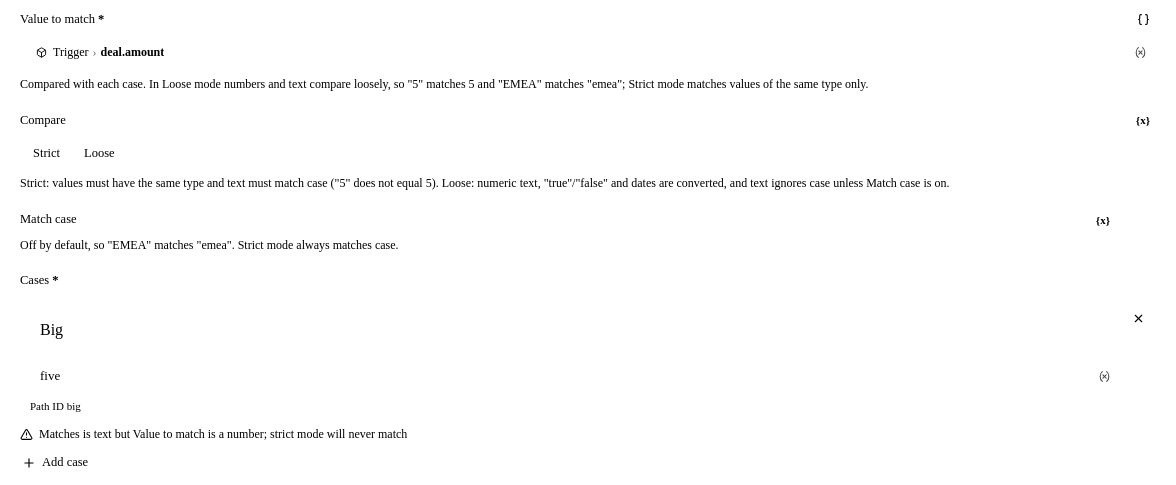
it: cases widget › case values are typed like the switch value, with a Compare choice
Expected: the text "Matches is text but Value to match is a number; strict mode will never match" is shown, [39,426,407,443]
Click the radio button labelled "Loose": (99, 153) [73,139,126,167]
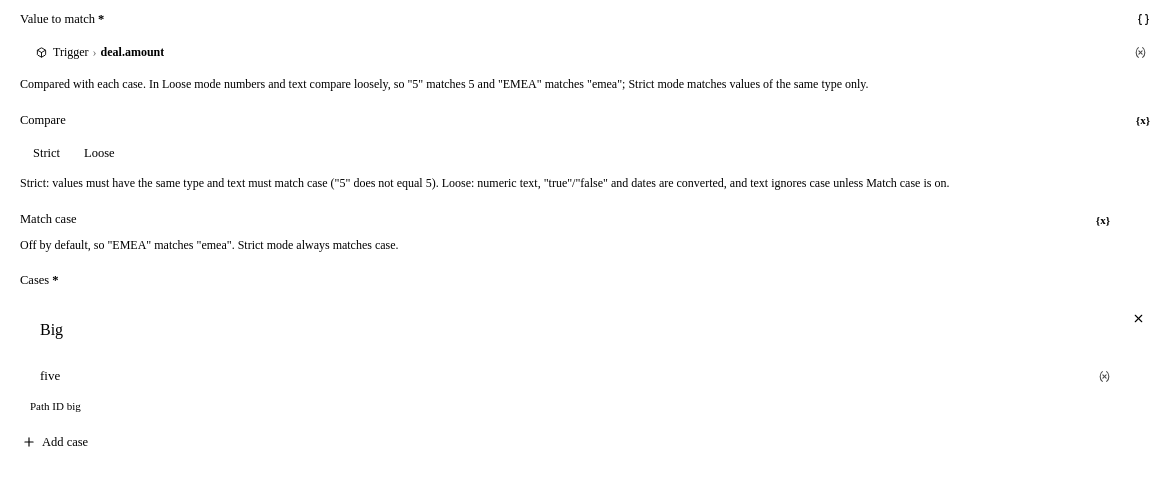
Result: the text "strict mode will never match" is gone
